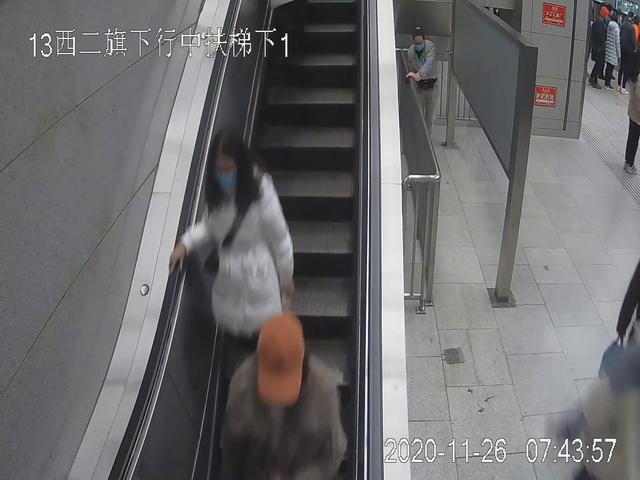person: (168, 131, 295, 441), (221, 312, 345, 480), (408, 23, 442, 146), (588, 5, 608, 88), (605, 14, 620, 93)
